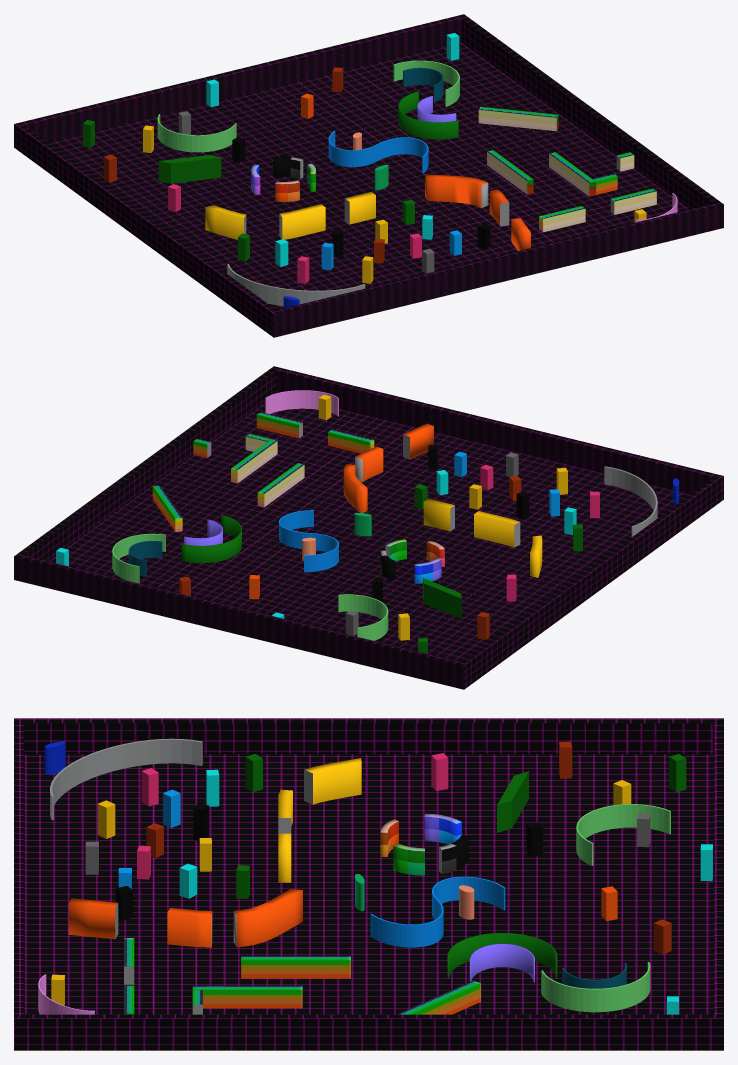
Rendered from partycity.glb.
3 views of the same model, one above another, from view 1: azimuth 30°, elevation 25°; view 2: azimuth 150°, elevation 25°; view 3: azimuth 270°, elevation 25° (orthographic). The views are drawn at different scales.
Visible parts, largest first — view 1: Cube.001; view 2: Cube.001; view 3: Cube.001.
Boxes of the visible parts, x1,y1,x2,y2 form: Cube.001: (14,14,723,337); Cube.001: (14,366,723,689); Cube.001: (14,718,723,1050).
Bounding box in the file's own units: 20000 × 1000 × 20000.
3 materials, 3 textured.
